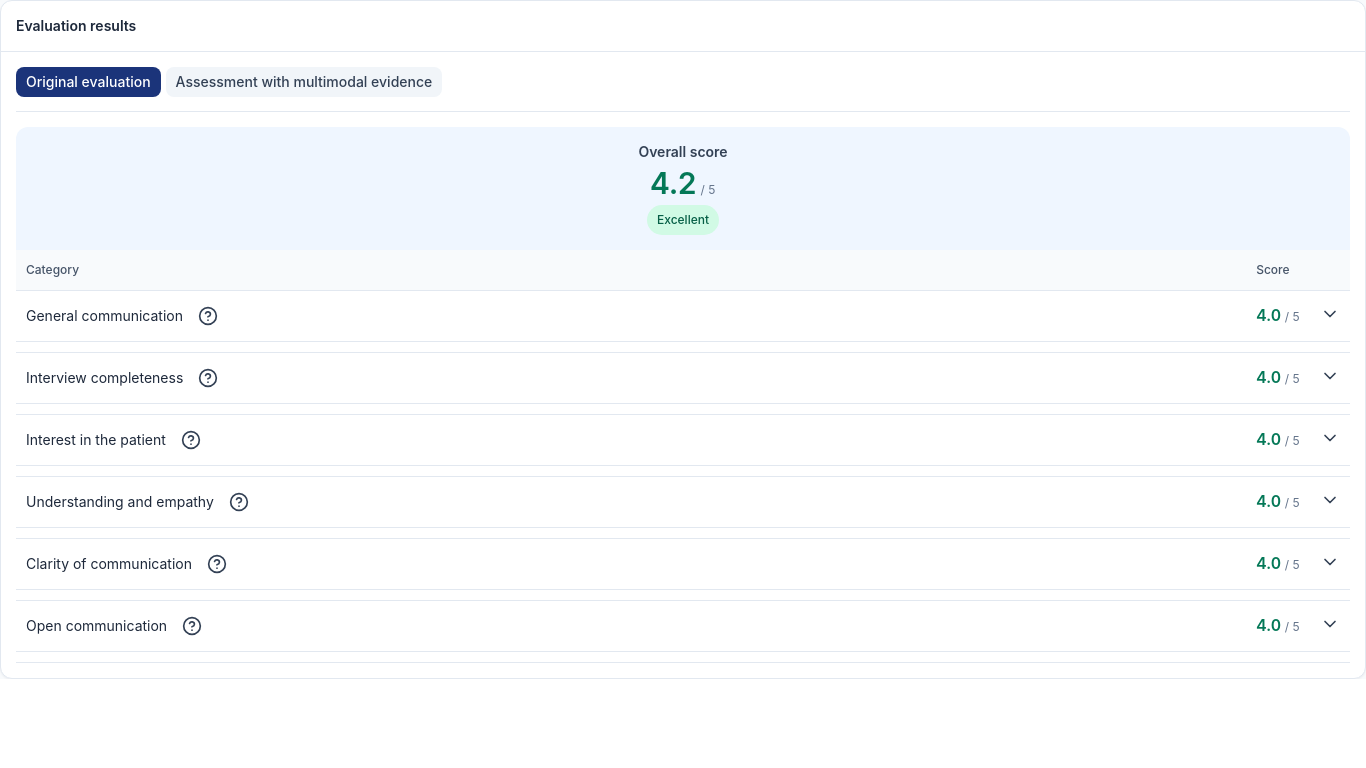
Scenario: Evaluation condition selector › shows the Clarity of communication criteria without a multimodal evidence section
The width and height of the screenshot is (1366, 768).
Click the button "Assessment with multimodal evidence": click(304, 82) [166,67,442,97]
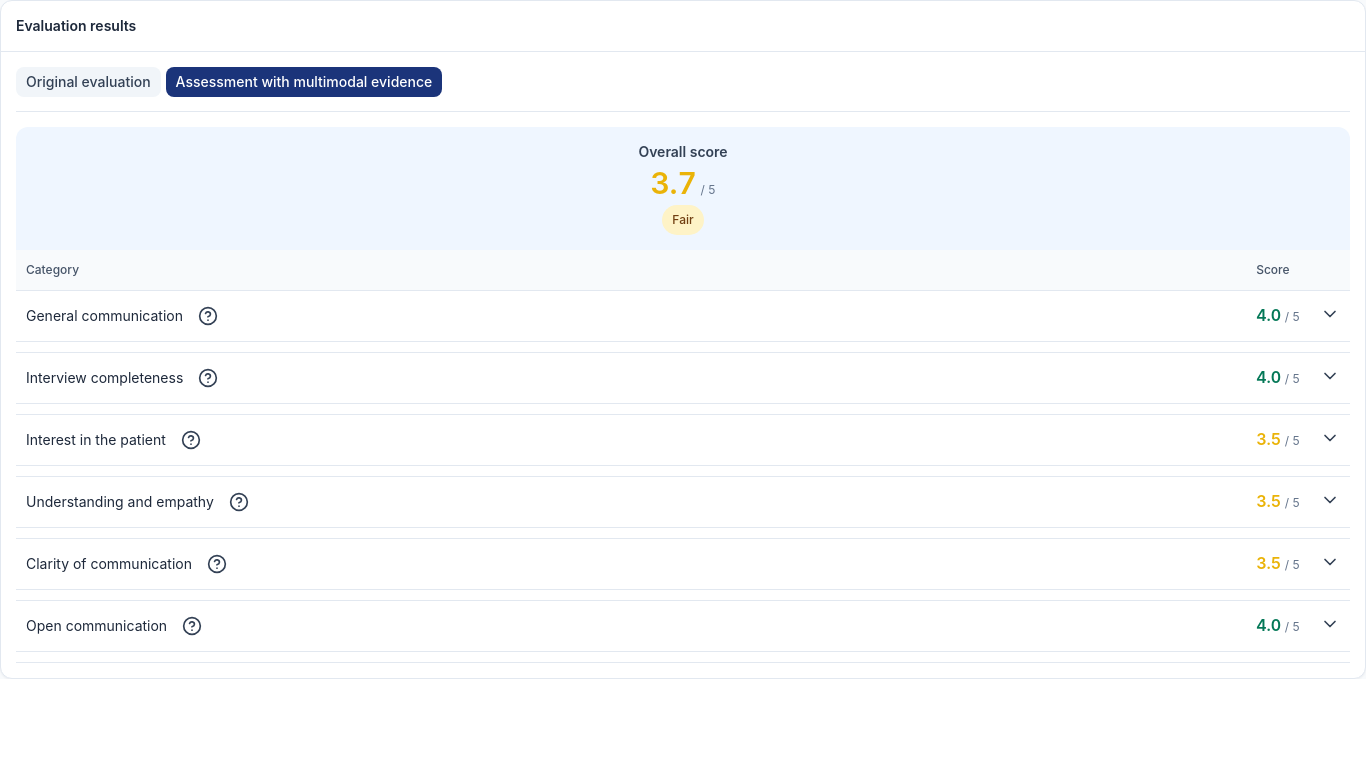
Click the button named "View assessment criteria for Clarity of communication": click(217, 564) [202,549,232,579]
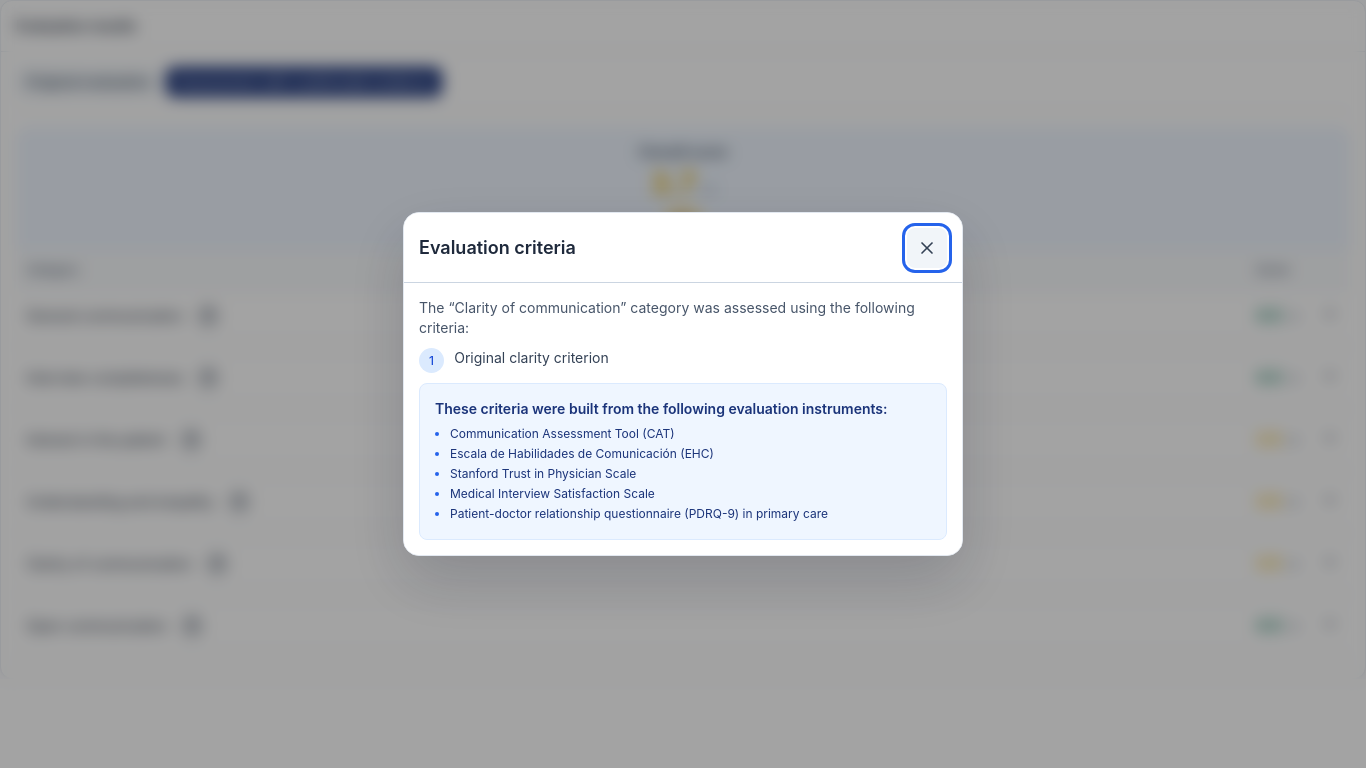
expect the text "Original clarity criterion" is shown: met, box [454,349,609,366]
